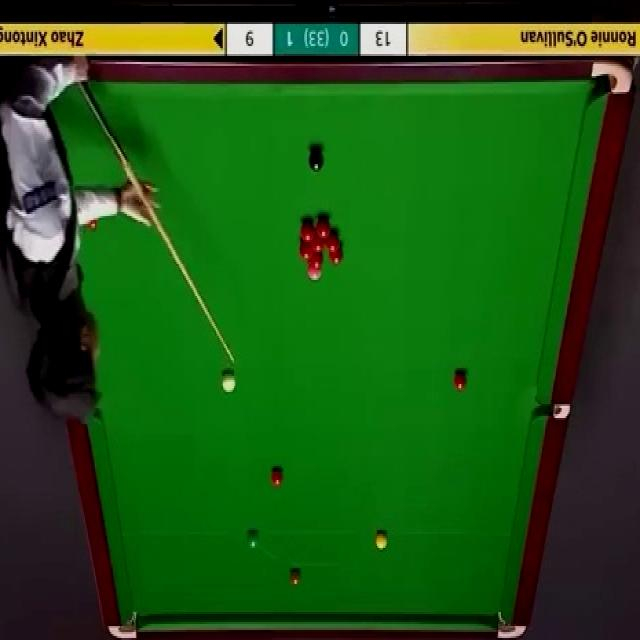black-ball: (307, 150, 324, 173)
brown-ball: (290, 569, 302, 587)
green-ball: (247, 530, 260, 551)
pink-ball: (308, 266, 322, 282)
red-ball: (308, 234, 323, 256), (454, 371, 468, 393), (301, 221, 315, 242), (316, 221, 330, 241), (271, 466, 284, 487), (330, 247, 342, 264), (300, 242, 310, 261), (323, 240, 338, 252), (310, 254, 323, 265)
white-ball: (222, 370, 236, 394)
yellow-ball: (376, 532, 388, 550)
